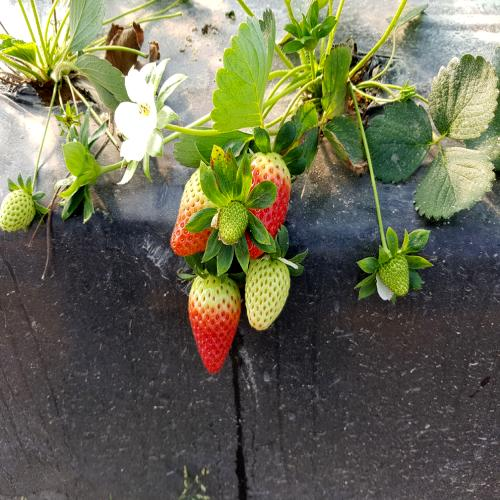partially-ripe: (184, 261, 244, 378), (242, 144, 294, 265), (169, 161, 221, 264)
